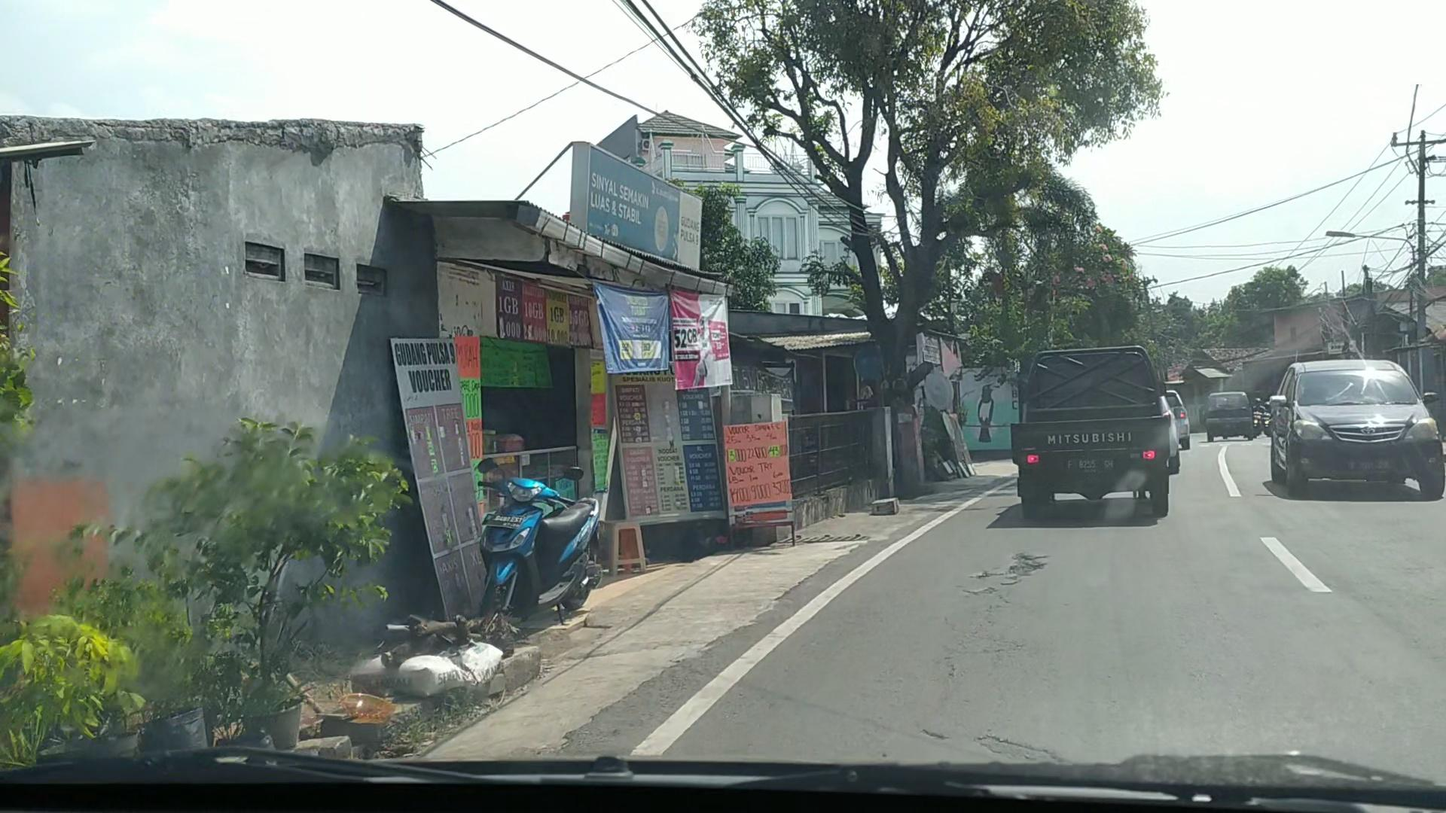pothole: (970, 547, 1054, 587)
